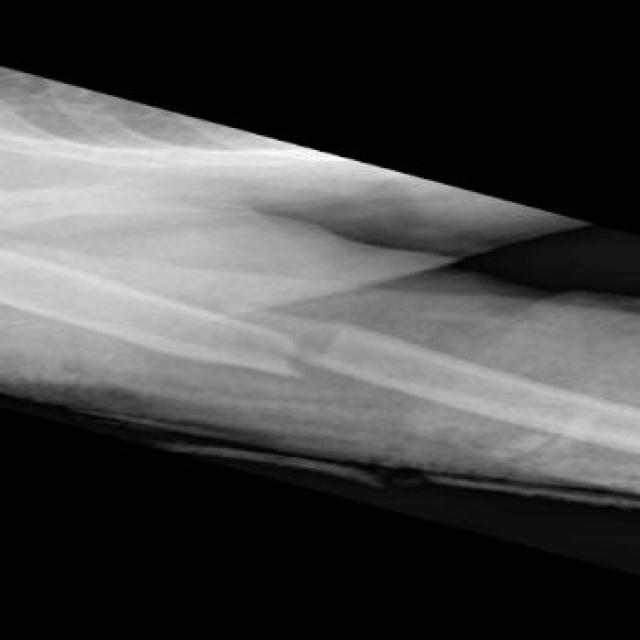Fracture: (236, 314, 390, 392)
